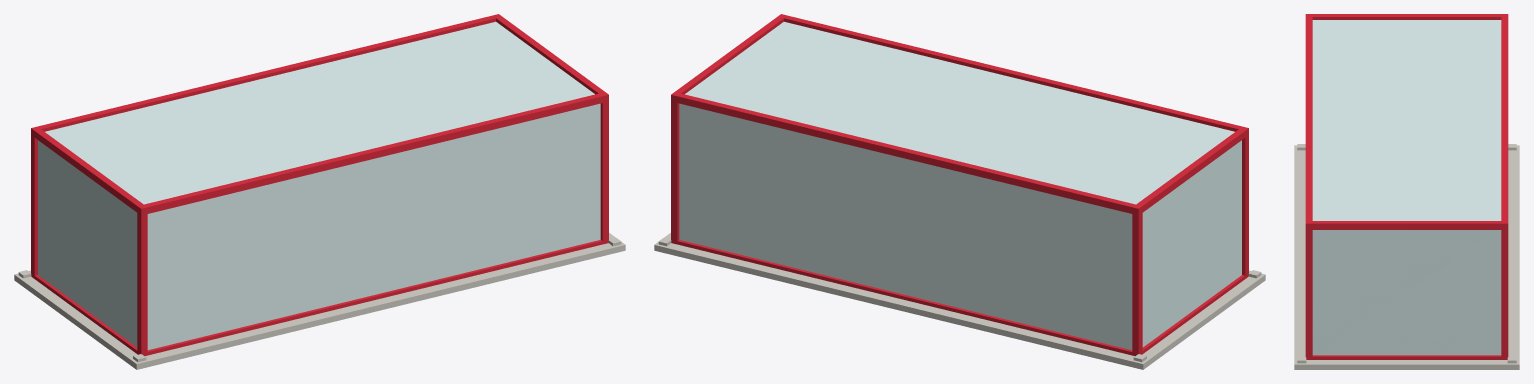
Rendered from peugeot-9x8.glb.
3 views of the same model, side by side, from view 1: azimuth 30°, elevation 25°; view 2: azimuth 150°, elevation 25°; view 3: azimuth 270°, elevation 25° (orthographic). The views are drawn at different scales.
Size of the model in its own units: 0.53 by 0.1595 by 0.23.
